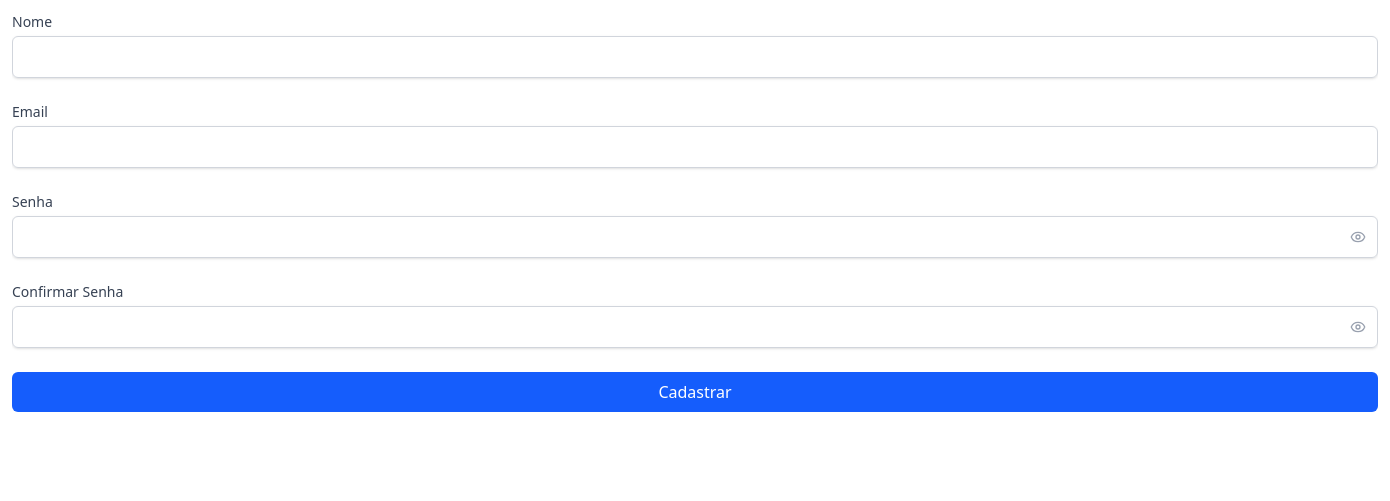
Scenario: RegisterForm › shows validation errors for empty fields
Click the button "Cadastrar": (695, 392) left=12, top=372, right=1378, bottom=412
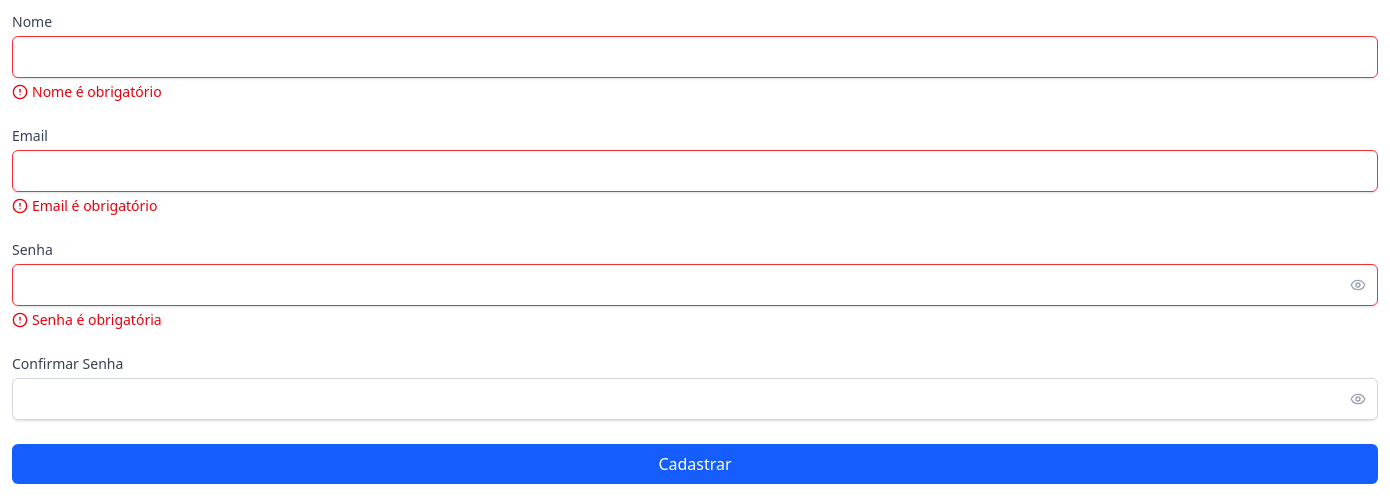
Now the text "Nome é obrigatório" is shown, box left=12, top=82, right=162, bottom=101
Now the text "Email é obrigatório" is shown, box left=12, top=196, right=158, bottom=215
Now the text "Senha é obrigatória" is shown, box left=12, top=310, right=162, bottom=329
